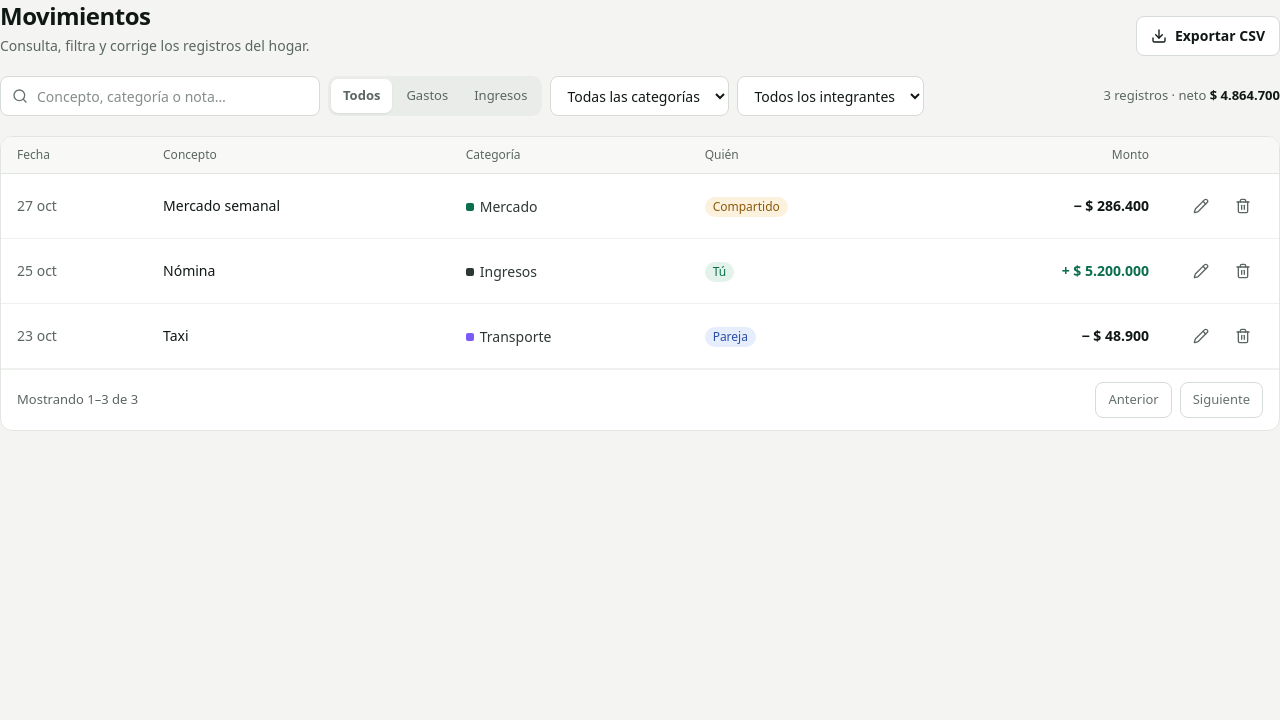
Test case: TransactionsView › asks for confirmation before deleting
Click the button named "Eliminar Taxi". click: (1243, 336)
box: x1=1223 y1=316 x2=1263 y2=356
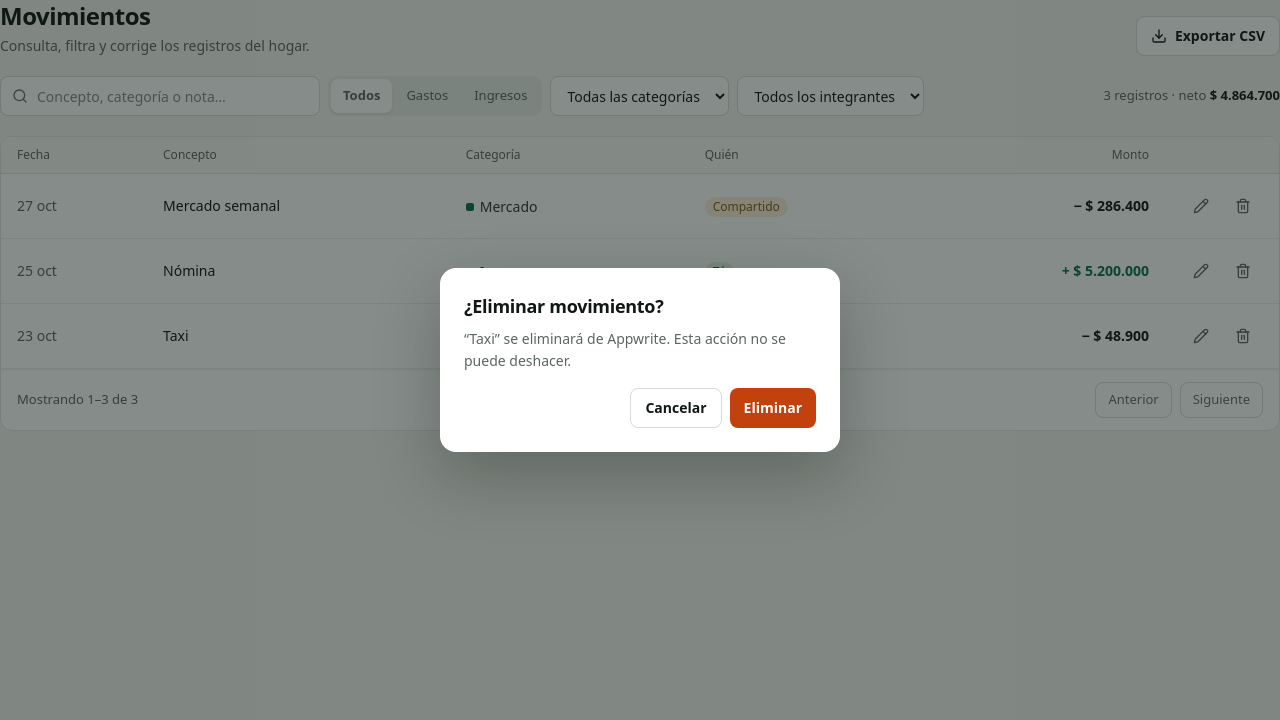
expect the dialog "¿Eliminar movimiento?" shows "Taxi": met, box x1=464 y1=329 x2=786 y2=370
Click the button "Eliminar". click: (773, 408)
box: x1=730 y1=388 x2=816 y2=428
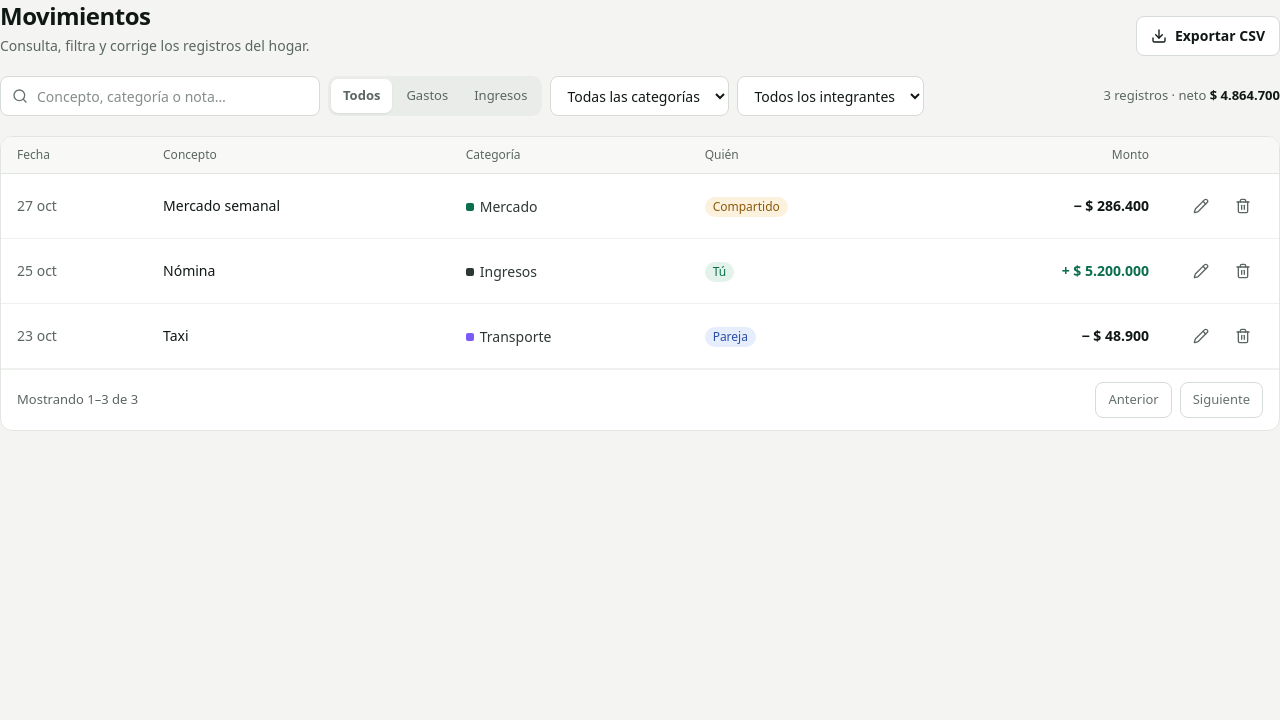
expect the dialog is gone: met
